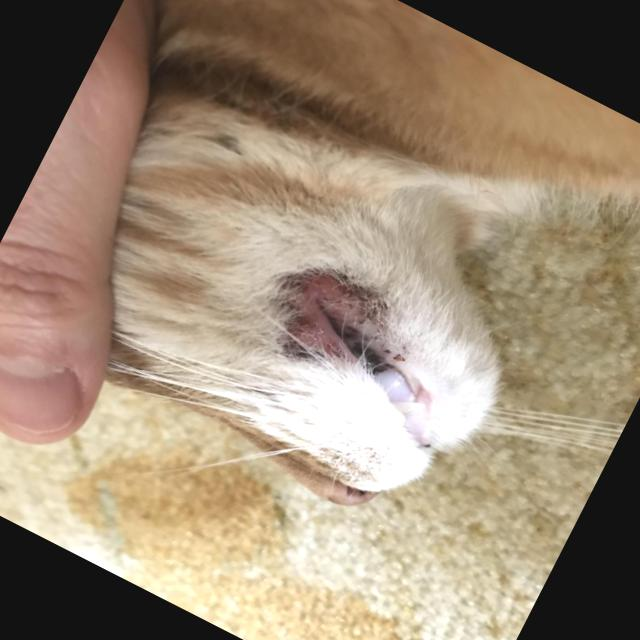cat-ulcer: (277, 269, 368, 368)
